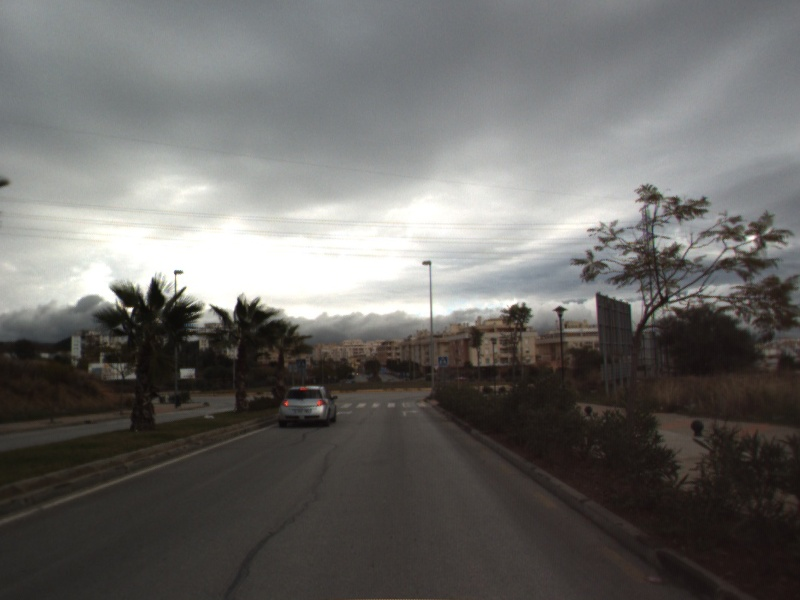RIGHT: (400, 407, 420, 419)
